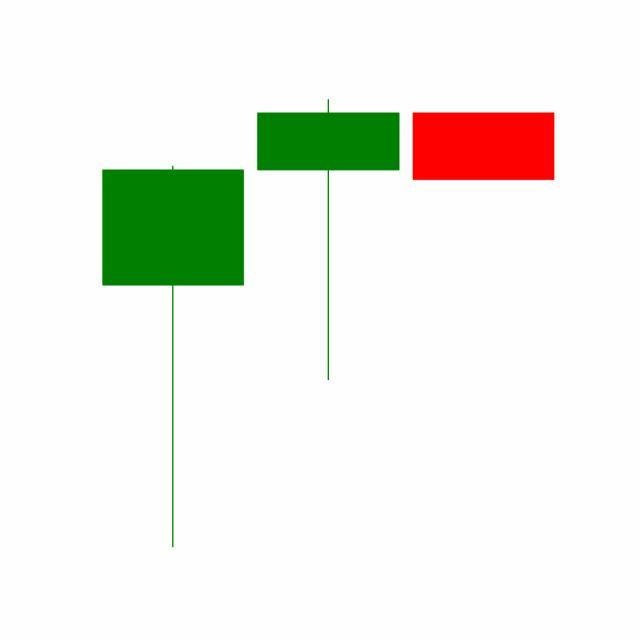Hanging Man: (250, 96, 407, 384)
